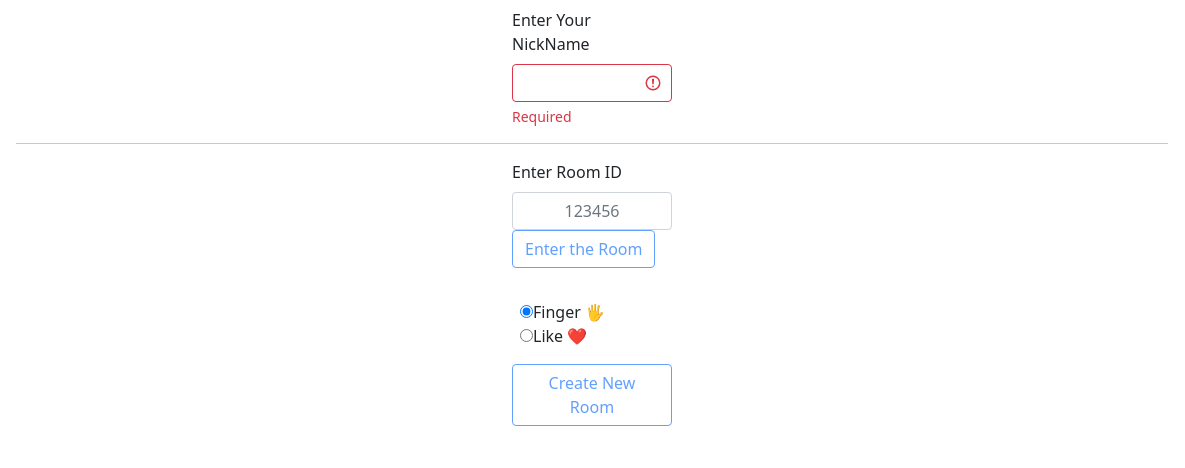
Test: renders Enter Room ID
Expected: the button with test id "enter-button" is disabled, [512, 230, 656, 268]
Type "aaa" into the field with placeholder "123456" at (592, 211), box [512, 192, 672, 230]
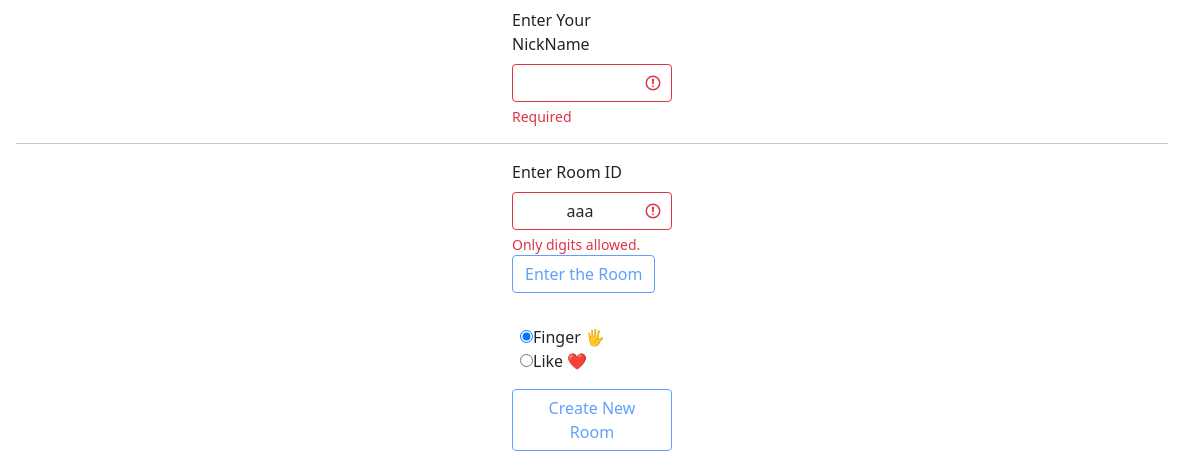
Expected: the button with test id "enter-button" is disabled, [512, 255, 656, 293]
Now the text "Only digits allowed." is shown, box [512, 235, 640, 254]
Replace the text in the field with placeholder "123456" below "Enter Room ID" with "123" at (592, 211), box [512, 192, 672, 230]
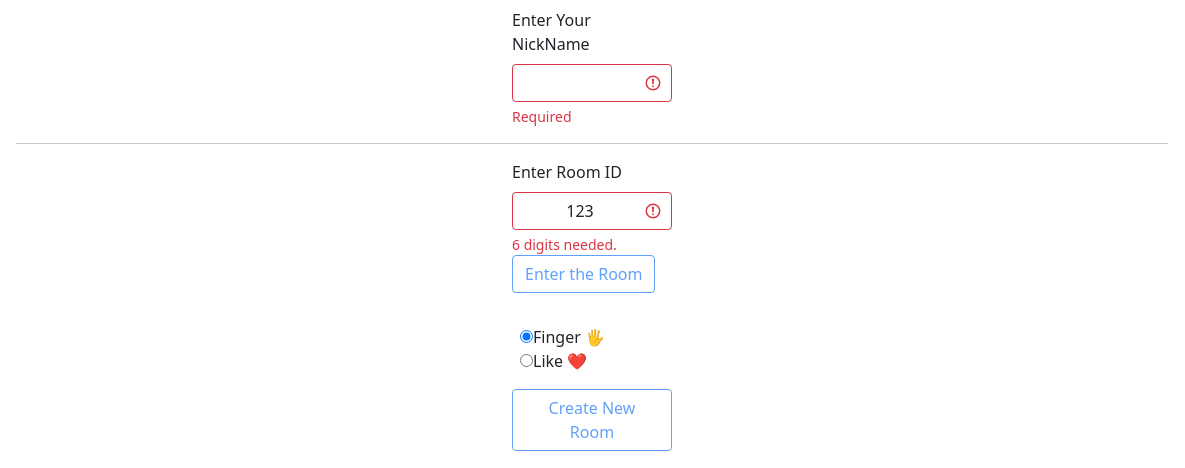
Expected: the button with test id "enter-button" is disabled, [512, 255, 656, 293]
Now the text "6 digits needed." is shown, box [512, 235, 617, 254]
Replace the text in the field with placeholder "123456" below "Enter Room ID" with "456789" at (592, 211), box [512, 192, 672, 230]
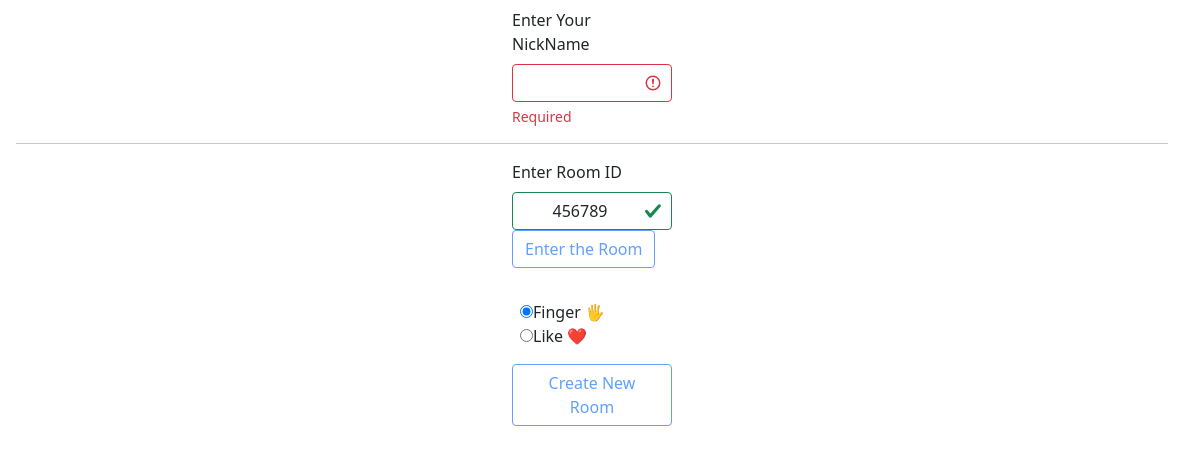
Type "hoge" into the field with test id "nickname-input" at (592, 83), box [512, 64, 672, 102]
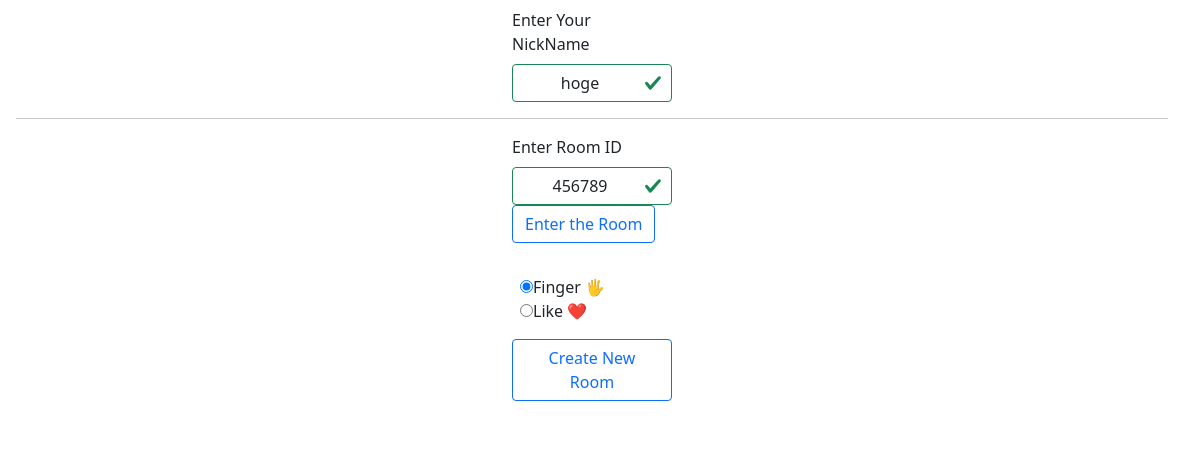
Now the button with test id "enter-button" is enabled, box [512, 205, 656, 243]
